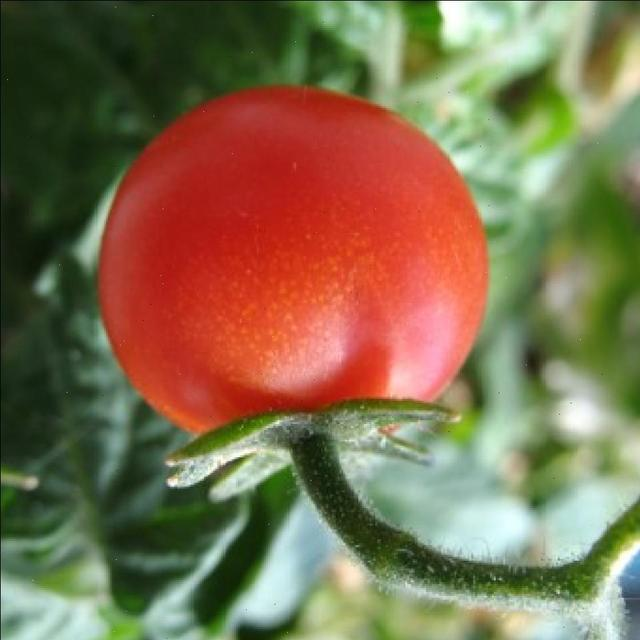Healthy Fruit: (69, 70, 328, 303)
